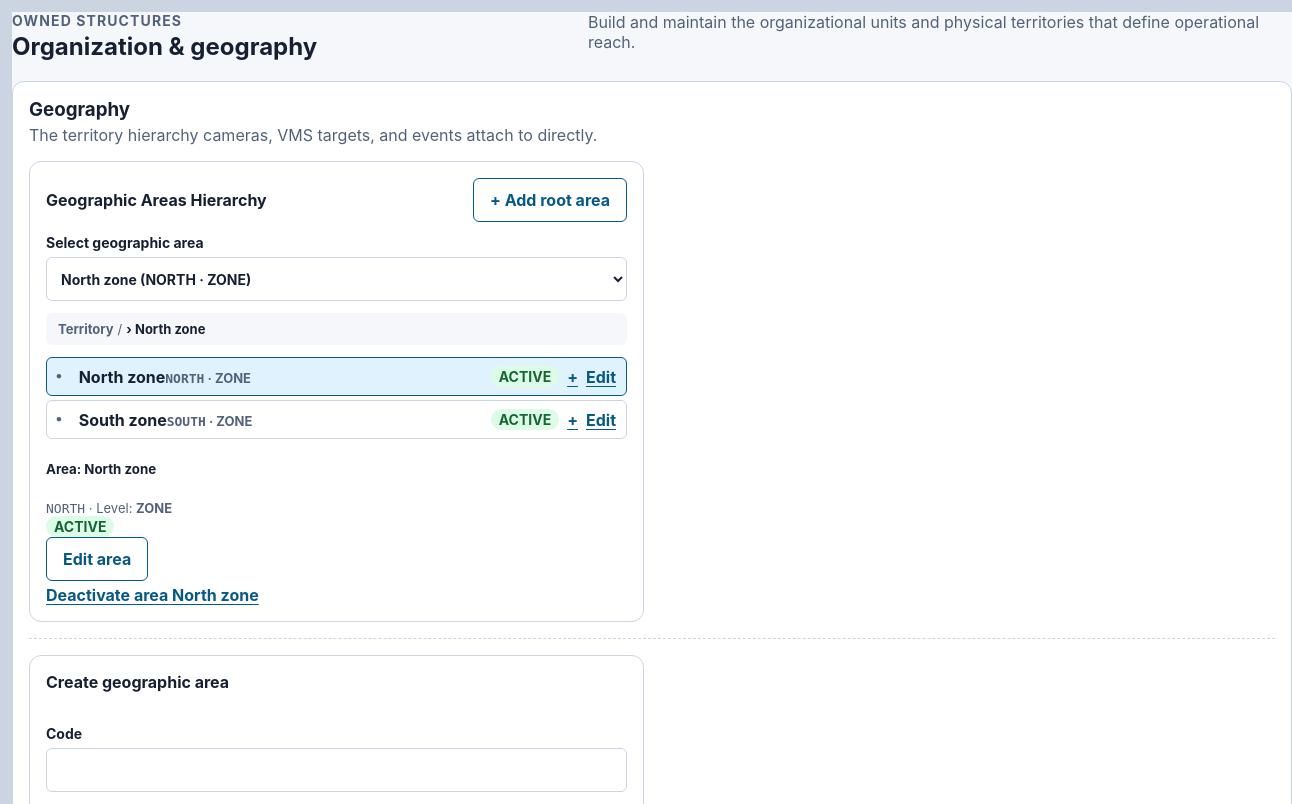
HierarchyPage deactivation conflicts › requires an explicit child strategy after a hierarchy deactivation conflict
Click the button "Deactivate area North zone" at [152, 594], box left=46, top=584, right=259, bottom=604
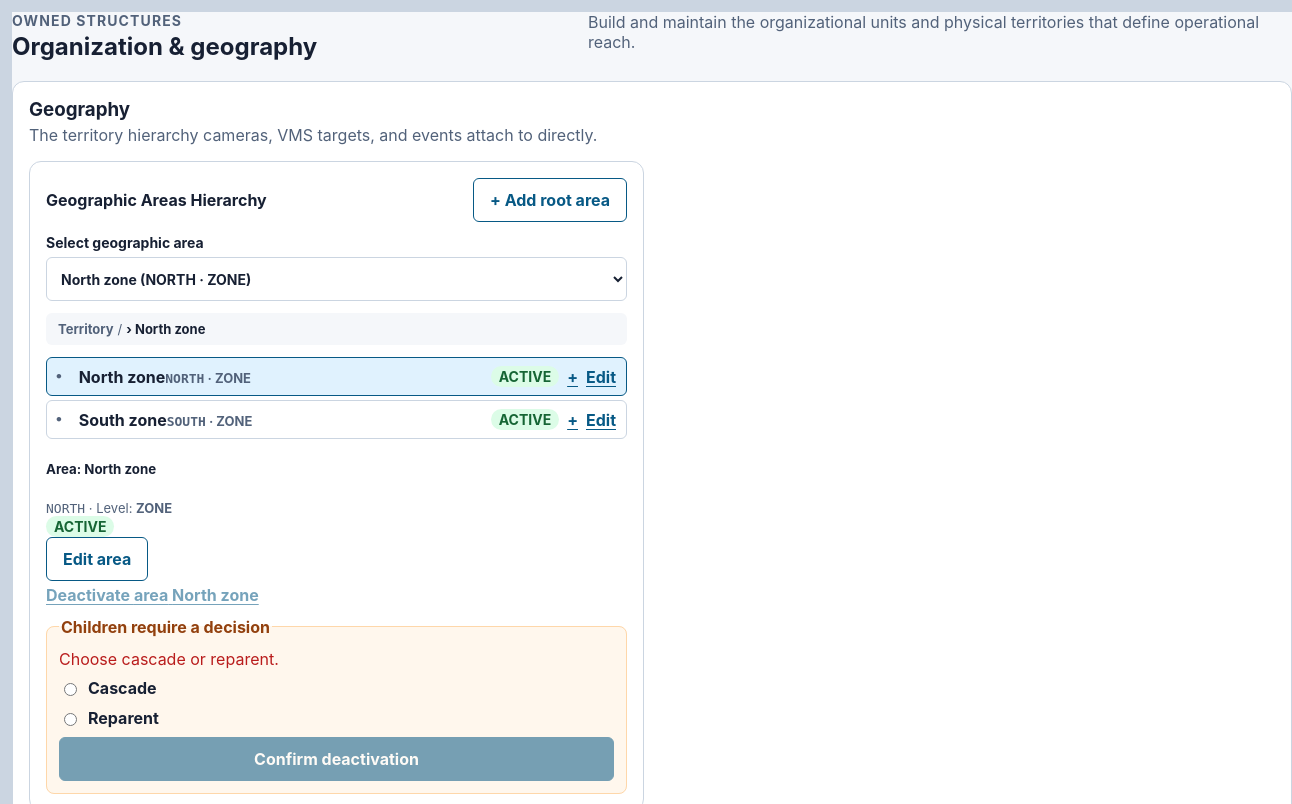
Now the text "Choose cascade or reparent." is shown, box left=59, top=648, right=279, bottom=668
Now the radio button labelled "Cascade" is shown, box left=64, top=683, right=77, bottom=696
Now the radio button labelled "Reparent" is shown, box left=64, top=713, right=77, bottom=726
